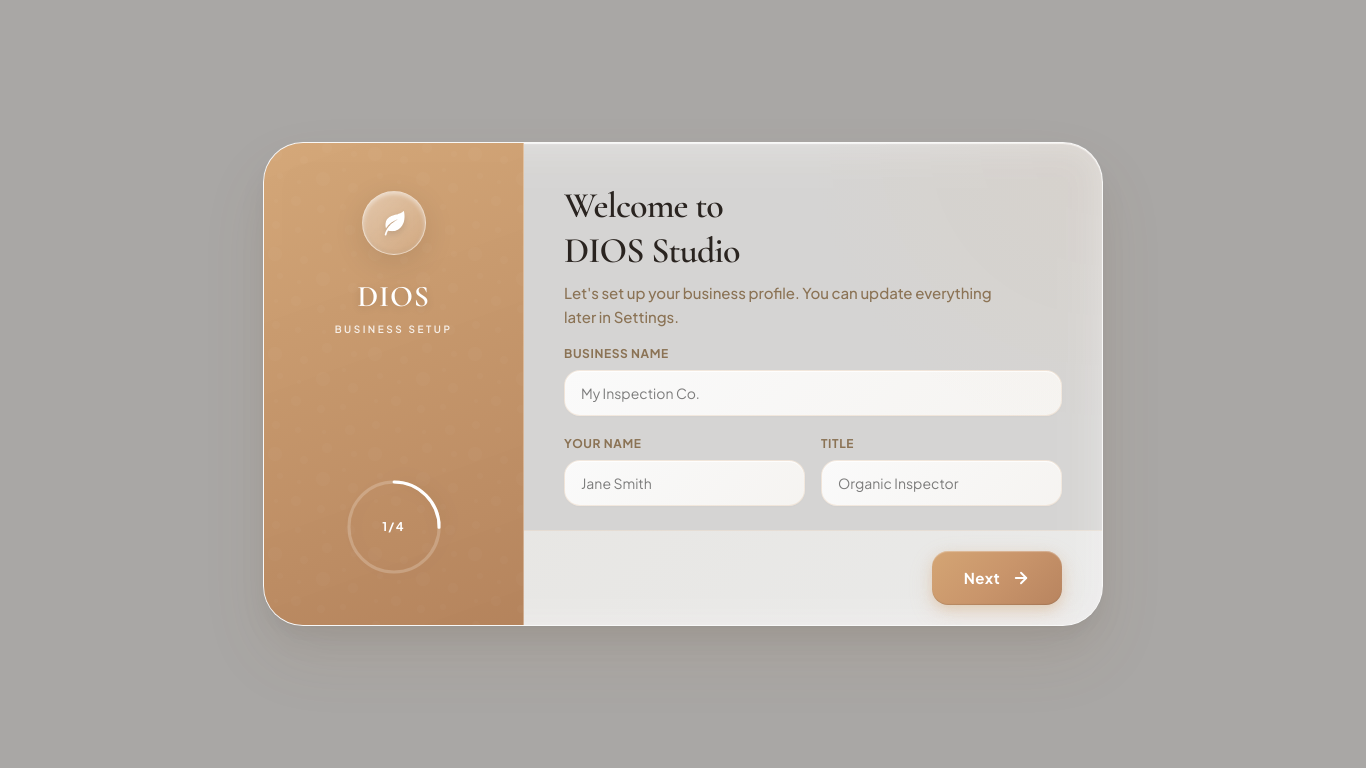
Test: OnboardingWizard › Skip button on step 1 advances to step 2
Click the button "Next" at (997, 578), box [932,551,1062,605]
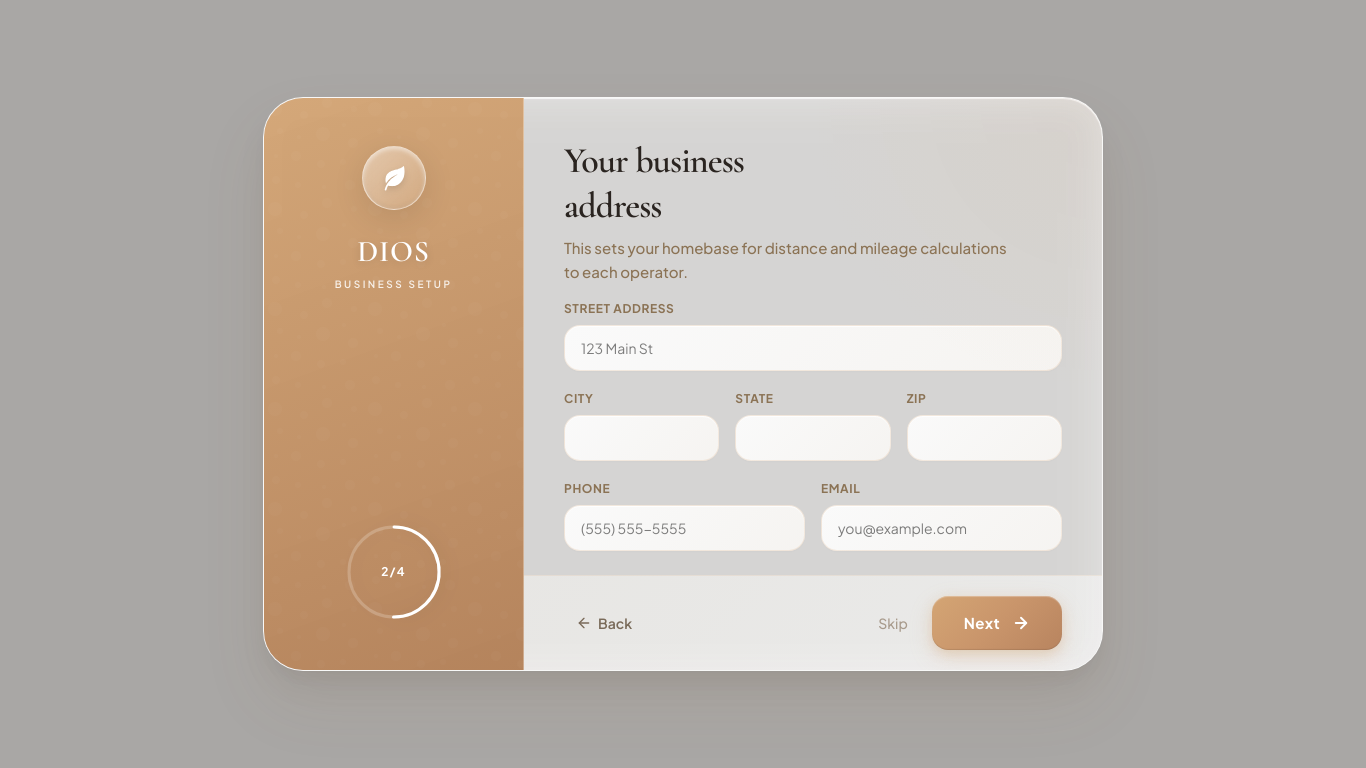
expect the text "Street Address" is shown: met, box [564,301,674,316]
Click the button "Skip" at (893, 623), box [866,605,920,641]
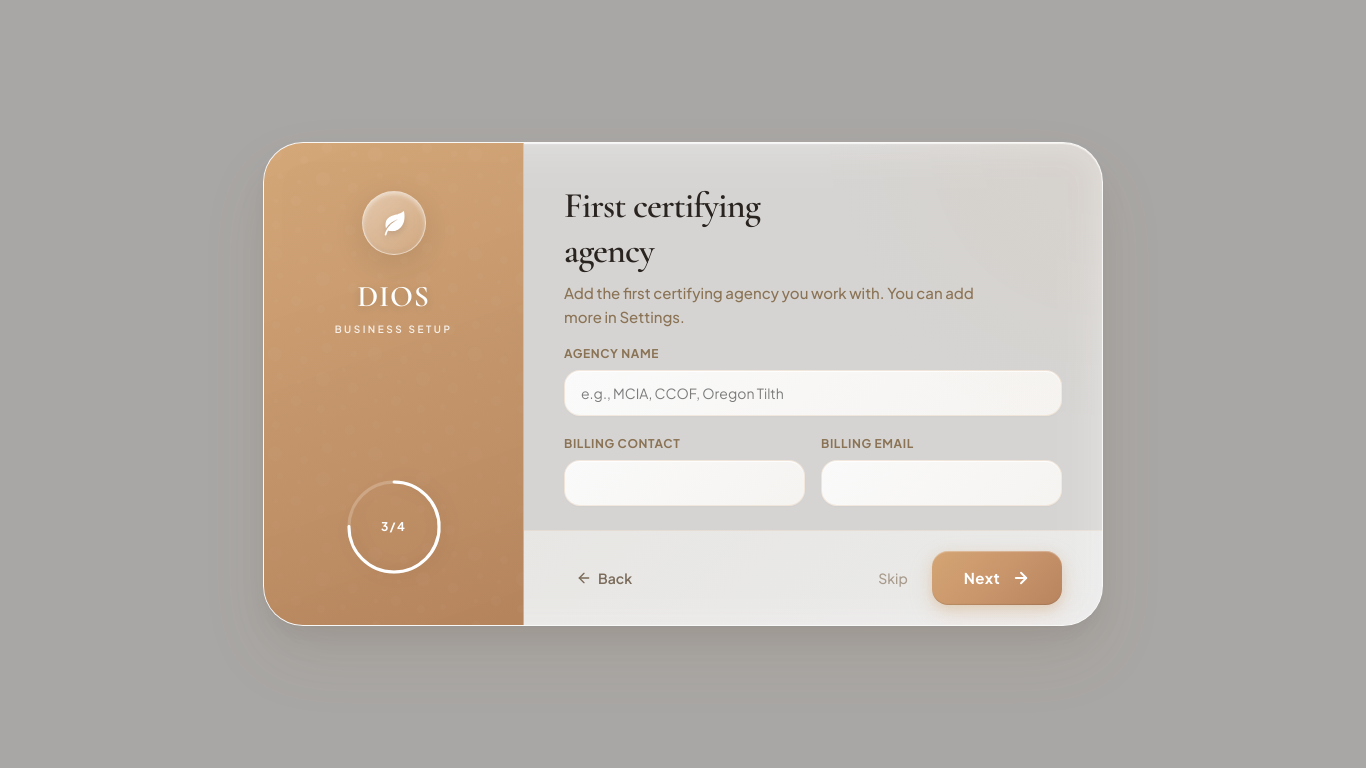
expect the text "Agency Name" is shown: met, box [564,346,659,361]
